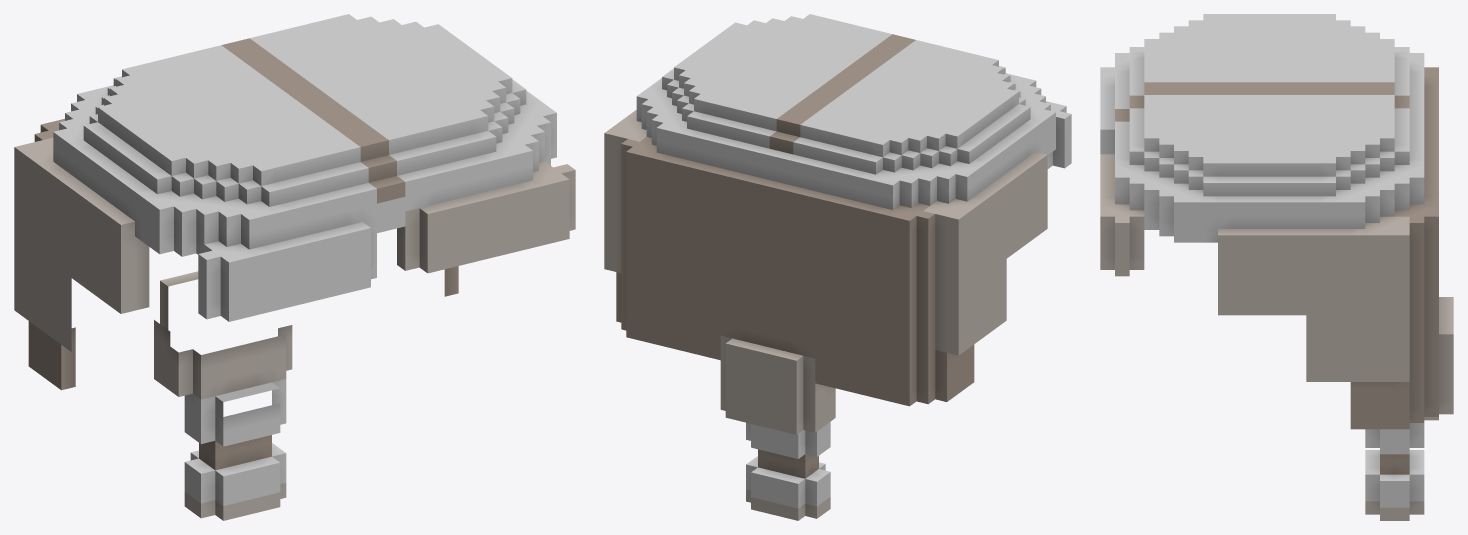
File: hair_f_braid_long.glb
The picture shows the model from 3 angles, left to right: view 1: azimuth 30°, elevation 25°; view 2: azimuth 150°, elevation 25°; view 3: azimuth 270°, elevation 25°; orthographic projection. The views are drawn at different scales.
Visible parts, largest first — view 1: VoxelVisual; view 2: VoxelVisual; view 3: VoxelVisual.
Boxes of the visible parts, left/top/right/bottom form: VoxelVisual: left=14, top=14, right=575, bottom=520; VoxelVisual: left=604, top=14, right=1071, bottom=520; VoxelVisual: left=1100, top=14, right=1453, bottom=520.
Size of what is drawn, in the model's own units: 1.88 by 1.94 by 1.5.
